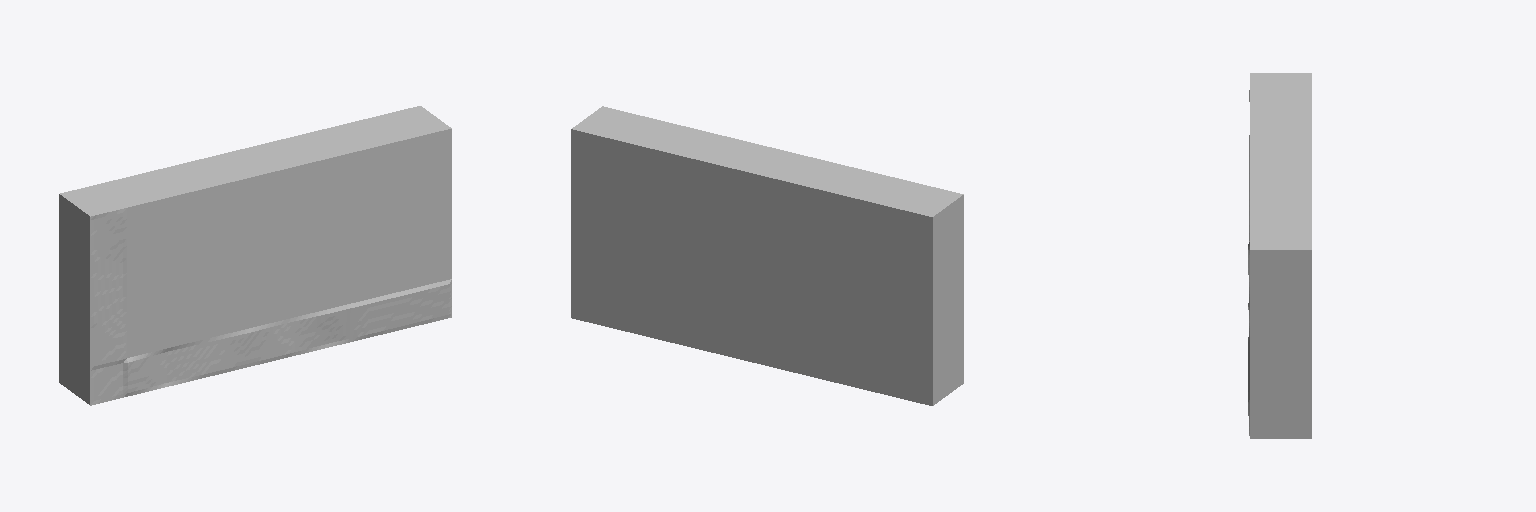
Rendered from rectangular_prism_bumps_6_4.obj.
The picture shows the model from 3 angles: view 1: azimuth 30°, elevation 25°; view 2: azimuth 150°, elevation 25°; view 3: azimuth 270°, elevation 25°; orthographic projection.
Size of the model in its own units: 10 by 5 by 1.54.